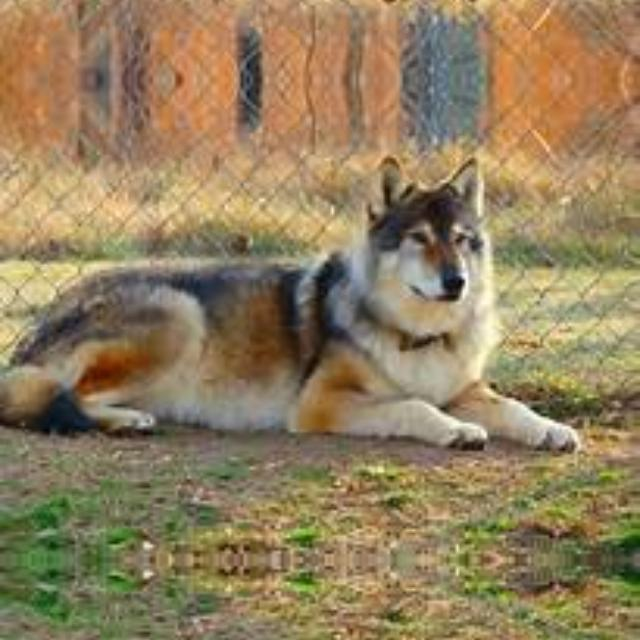dog: (21, 137, 576, 525), (21, 594, 576, 640), (21, 0, 576, 21)
